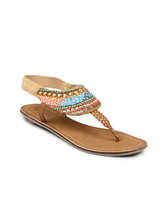shoes: (16, 77, 153, 160)
